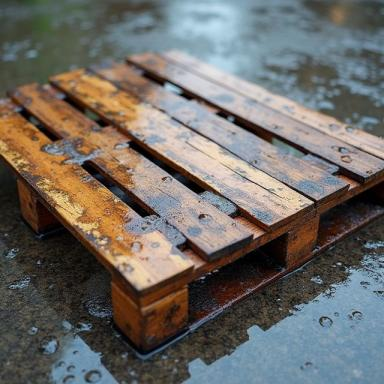pallet: (0, 48, 384, 355)
